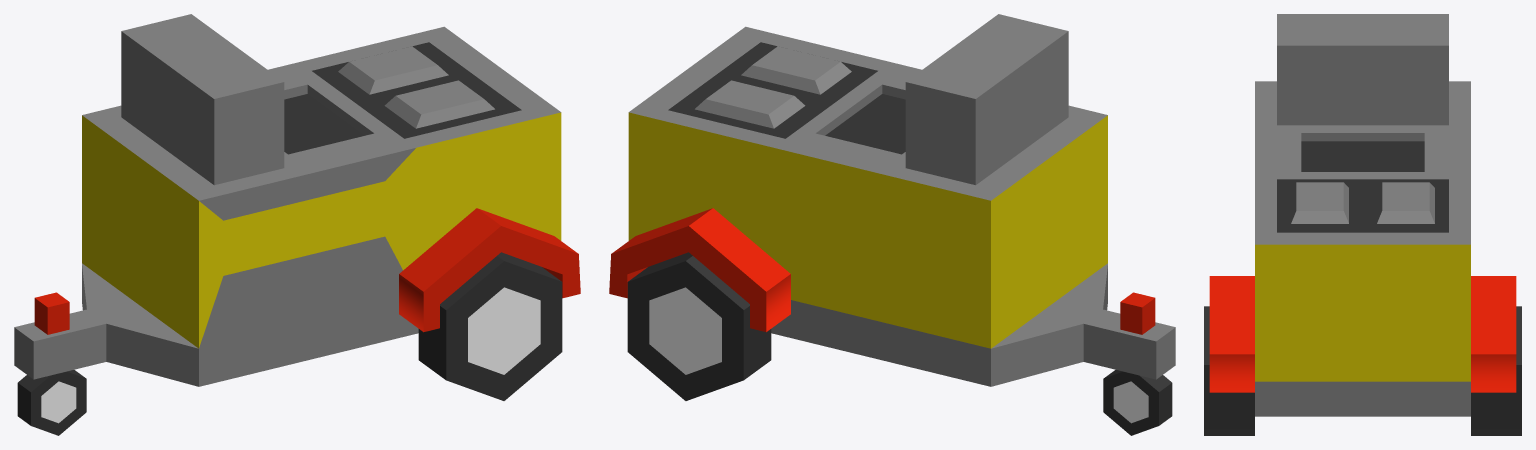
The model's file is HotDogCart.fbx.
The picture shows the model from 3 angles, left to right: view 1: azimuth 30°, elevation 25°; view 2: azimuth 150°, elevation 25°; view 3: azimuth 270°, elevation 25°; orthographic projection. The views are drawn at different scales.
Visible parts, largest first — view 1: SM_Prop_HotdogCart_01; view 2: SM_Prop_HotdogCart_01; view 3: SM_Prop_HotdogCart_01.
Boxes of the visible parts, x1,y1,x2,y2 form: SM_Prop_HotdogCart_01: (14, 14, 580, 435); SM_Prop_HotdogCart_01: (609, 14, 1175, 435); SM_Prop_HotdogCart_01: (1204, 14, 1521, 435).
Size of the model in its own units: 67.03 by 45.18 by 41.68.
